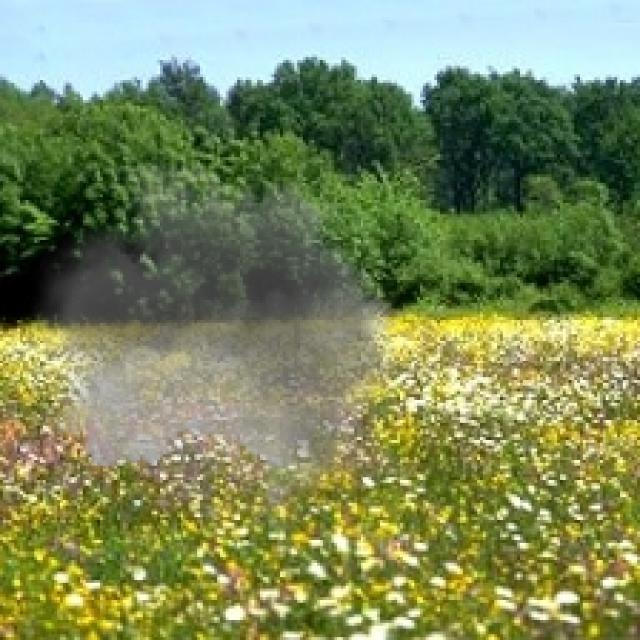smoke: (29, 140, 417, 551)
